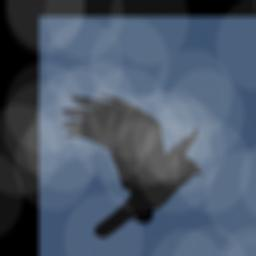Crow: (61, 92, 204, 239)
